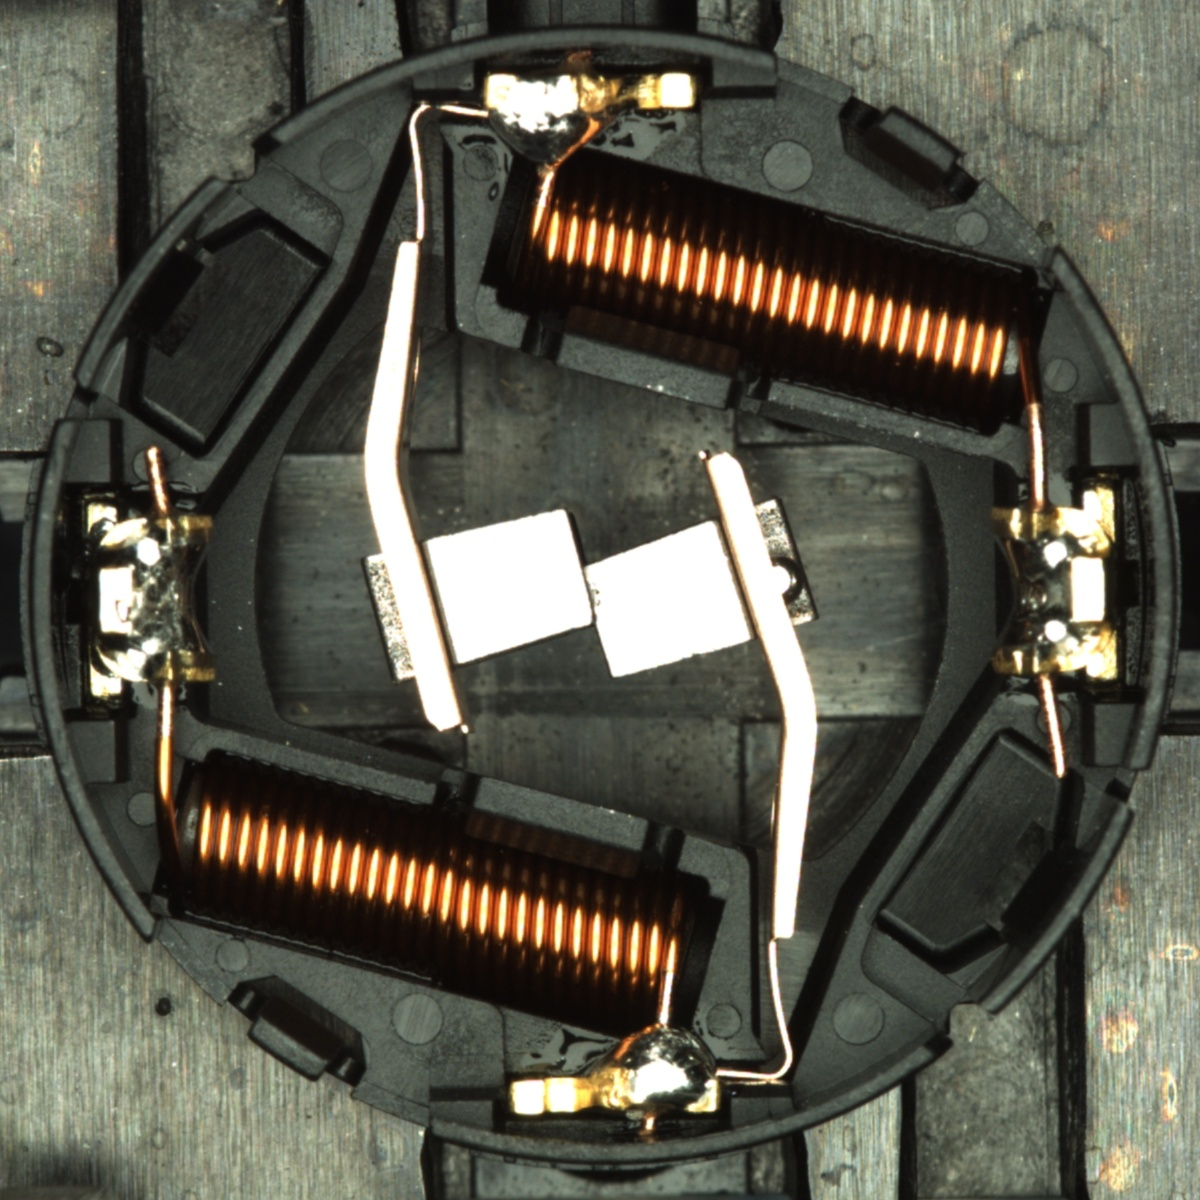1: (258, 55, 487, 279), (716, 953, 945, 1177)
2: (716, 55, 945, 279), (258, 953, 487, 1177)
3: (29, 279, 258, 503), (945, 729, 1175, 953)
4: (258, 279, 487, 503), (716, 729, 945, 953)
5: (487, 167, 716, 391), (487, 841, 716, 1065)
6: (716, 279, 945, 503), (258, 729, 487, 953)
7: (945, 279, 1175, 503), (29, 729, 258, 953)
chau_dien: (80, 497, 222, 701), (984, 488, 1123, 686)
hat_chi: (770, 556, 805, 605)
tay_choi: (484, 70, 702, 171), (508, 1020, 723, 1119)
thanh_de: (953, 787, 1140, 1031), (58, 164, 245, 404)
